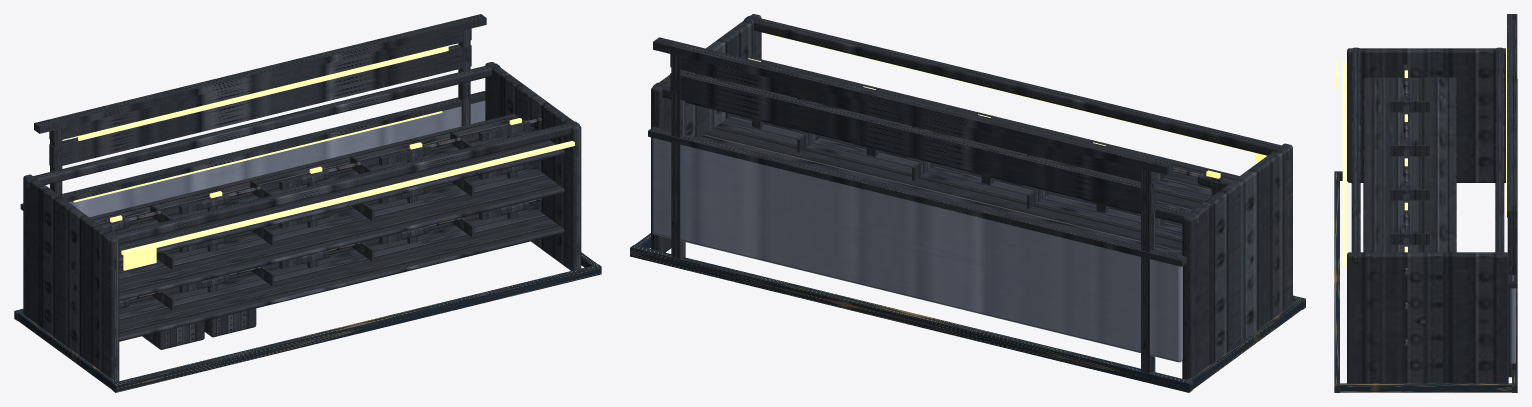
The model's file is armory_gunrack.glb.
3 renders of one model, left to right at view 1: azimuth 30°, elevation 25°; view 2: azimuth 150°, elevation 25°; view 3: azimuth 270°, elevation 25°, orthographic. The views are drawn at different scales.
Visible parts, largest first — view 1: sight_shell, shelf0, shelf1, post0, shelf2, back, post2, toprail0, toprail2, shelltoe0, shellrim0, strip (+7 smaller); view 2: back, sight_shell, post0, shelf1, toprail0, shelltoe2, shellrim2, shelf2, post2, toprail2, shellrim0, shelltoes0; view 3: post2, shelf2, post0, sight_shell, toprail2, toprail0, shelltoes2, shelltoe0, strip, back, div2_0, div2_1 (+4 smaller).
Part boxes in pixels (x1,y1,x2,y2): sight_shell: (34,14,486,196); shelf0: (119,204,564,341); shelf1: (119,163,564,301); post0: (23,174,119,381); shelf2: (90,114,564,262); back: (69,100,485,217); post2: (485,62,581,270); toprail0: (104,121,579,246); toprail2: (24,63,500,188); shelltoe0: (112,264,601,392); shellrim0: (22,92,485,210); strip: (121,141,574,254); back: (652,138,1182,362); sight_shell: (653,37,1173,373); post0: (1182,143,1292,379); shelf1: (701,114,1182,255); toprail0: (744,16,1291,159); shelltoe2: (630,245,1192,392); shellrim2: (648,128,1185,266); shelf2: (719,57,1239,212); post2: (651,14,761,252); toprail2: (653,82,1199,226); shellrim0: (652,126,1187,263); shelltoes0: (1185,298,1302,389); post2: (1347,252,1508,383); shelf2: (1363,77,1456,252); post0: (1347,48,1505,182); sight_shell: (1507,14,1517,377); toprail2: (1495,47,1504,263); toprail0: (1351,47,1360,263); shelltoes2: (1338,383,1513,392); shelltoe0: (1334,171,1339,392); strip: (1342,63,1346,265); back: (1510,275,1515,363); div2_0: (1390,101,1429,112); div2_1: (1390,145,1429,156).
Bounding box in the file's own units: 4.52 × 1.7 × 1.64.
Materials: 7 (5 with a texture image).
